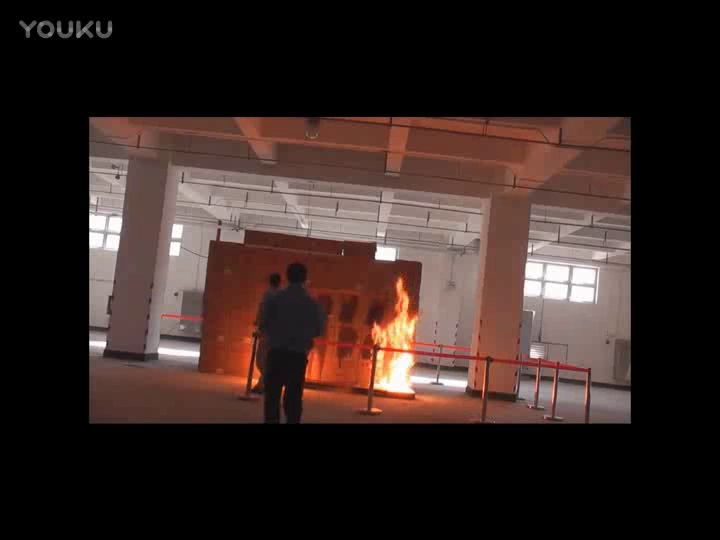fire: (374, 280, 421, 395)
